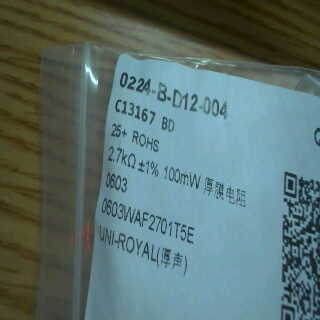2.7kR: (108, 142, 138, 171)
